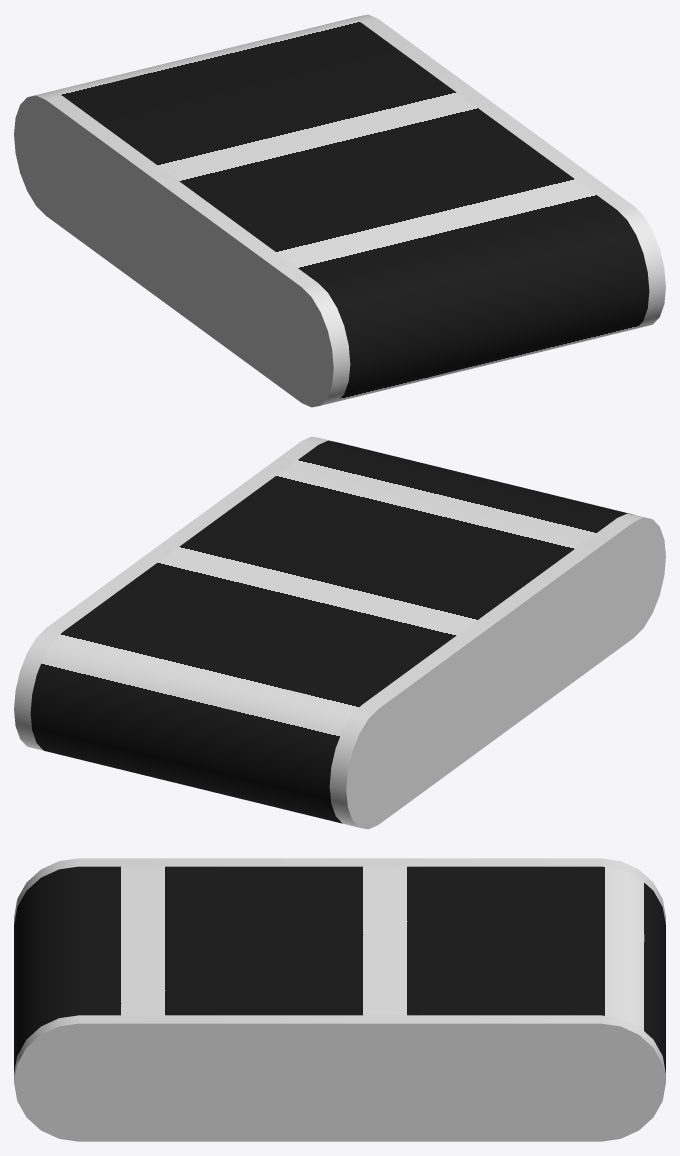
Rendered from belt.glb.
3 views of the same model, one above another, from view 1: azimuth 30°, elevation 25°; view 2: azimuth 150°, elevation 25°; view 3: azimuth 270°, elevation 25° (orthographic).
Visible parts, largest first — view 1: Cube; view 2: Cube; view 3: Cube.
Part boxes in pixels (x1,y1,x2,y2): Cube: (14,14,665,407); Cube: (14,436,665,829); Cube: (14,858,665,1141).
Size of the model in its own units: 1.5 by 0.5 by 2.5.
2 materials, 1 textured.
